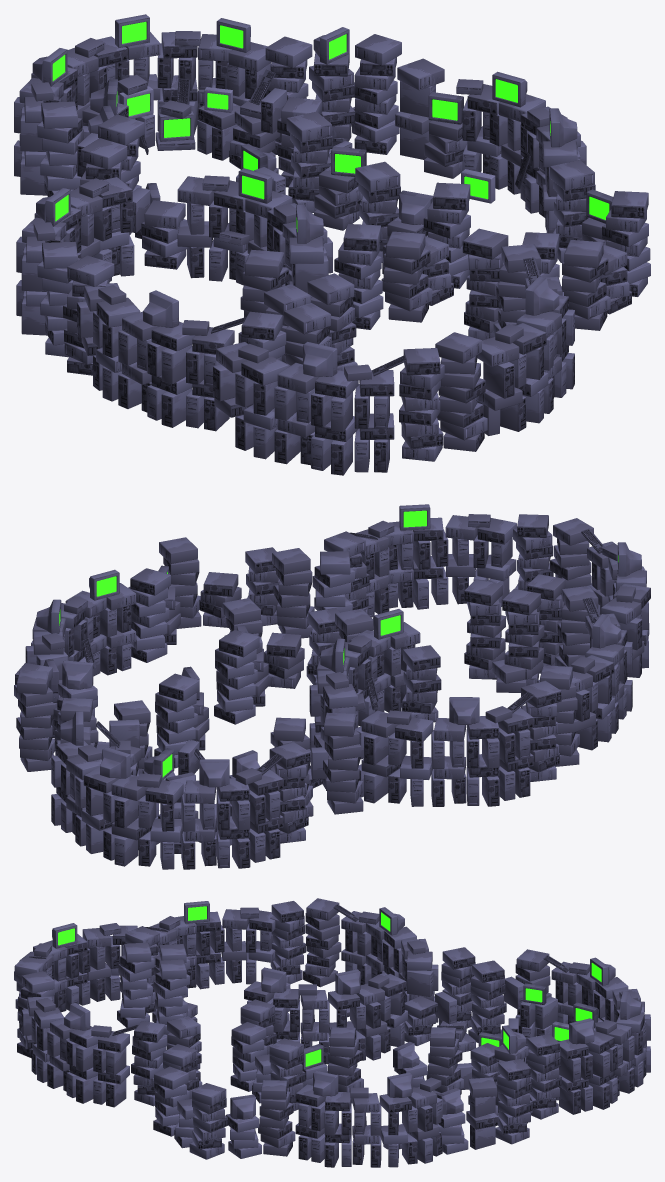
The model's file is NEWComputers.glb.
3 renders of one model, top to bottom at view 1: azimuth 30°, elevation 25°; view 2: azimuth 150°, elevation 25°; view 3: azimuth 270°, elevation 25°, orthographic. The views are drawn at different scales.
Visible parts, largest first — view 1: Screen D.018, PC 01.081, PC 02.026, PC 02.069, PC 02.076, PC 02.216, Screen D.016, PC 02.061, PC 02.167, PC 02.055, PC 02.046, PC 02.157 (+75 smaller); view 2: Screen D.005, Screen D.010, Screen D.009, Screen D.008, PC 02.220, PC 02.055, PC 02.157, Screen D.017, PC 02.216, PC 02.153, PC 02.211, PC 02.223 (+55 smaller); view 3: PC 01.099, Screen D.013, Screen D.012, Screen B.010, Screen D.014, Screen D.015, PC 01.005, PC 01.223, Screen D.007, PC 02.153, PC 02.140, PC 02.223 (+69 smaller).
Boxes of the visible parts, bbox=[...] form: Screen D.018: bbox=[303, 341, 337, 376]; PC 01.081: bbox=[397, 58, 444, 90]; PC 02.026: bbox=[265, 36, 312, 67]; PC 02.069: bbox=[80, 138, 127, 169]; PC 02.076: bbox=[67, 255, 114, 286]; PC 02.216: bbox=[307, 273, 354, 304]; Screen D.016: bbox=[143, 290, 178, 327]; PC 02.061: bbox=[355, 34, 401, 65]; PC 02.167: bbox=[284, 302, 330, 334]; PC 02.055: bbox=[286, 111, 331, 142]; PC 02.046: bbox=[98, 114, 144, 145]; PC 02.157: bbox=[355, 161, 400, 192]; Screen D.005: bbox=[62, 660, 93, 689]; Screen D.010: bbox=[199, 759, 229, 787]; Screen D.009: bbox=[449, 697, 479, 724]; Screen D.008: bbox=[100, 747, 130, 778]; PC 02.220: bbox=[130, 568, 170, 595]; PC 02.055: bbox=[159, 673, 199, 700]; PC 02.157: bbox=[219, 630, 259, 657]; Screen D.017: bbox=[399, 504, 430, 530]; PC 02.216: bbox=[464, 579, 502, 605]; PC 02.153: bbox=[222, 598, 260, 624]; PC 02.211: bbox=[502, 588, 540, 615]; PC 02.223: bbox=[159, 537, 197, 563]; PC 01.099: bbox=[407, 970, 433, 996]; Screen D.013: bbox=[335, 969, 360, 994]; Screen D.012: bbox=[261, 967, 286, 992]; Screen B.010: bbox=[230, 1094, 255, 1119]; Screen D.014: bbox=[387, 1072, 412, 1097]; Screen D.015: bbox=[313, 1070, 338, 1096]; PC 01.005: bbox=[535, 996, 557, 1029]; PC 01.223: bbox=[231, 1022, 266, 1044]; Screen D.007: bbox=[569, 1018, 594, 1044]; PC 02.153: bbox=[269, 1038, 303, 1061]; PC 02.140: bbox=[240, 999, 274, 1022]; PC 02.223: bbox=[192, 1083, 226, 1105].
Bounding box in the file's own units: 28.45 × 6.22 × 38.92.
Materials: 62 (47 with a texture image).
